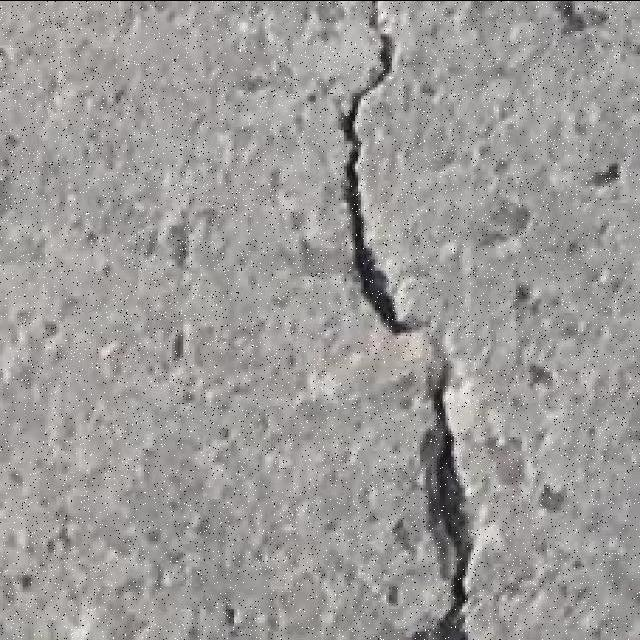Crack: (338, 5, 475, 637), (339, 9, 427, 335)
